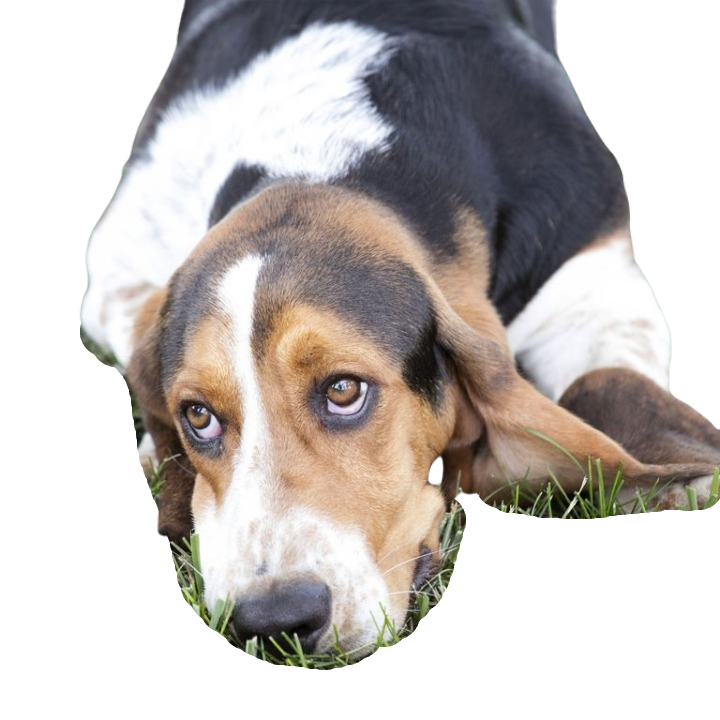Dog: (70, 2, 717, 661)
